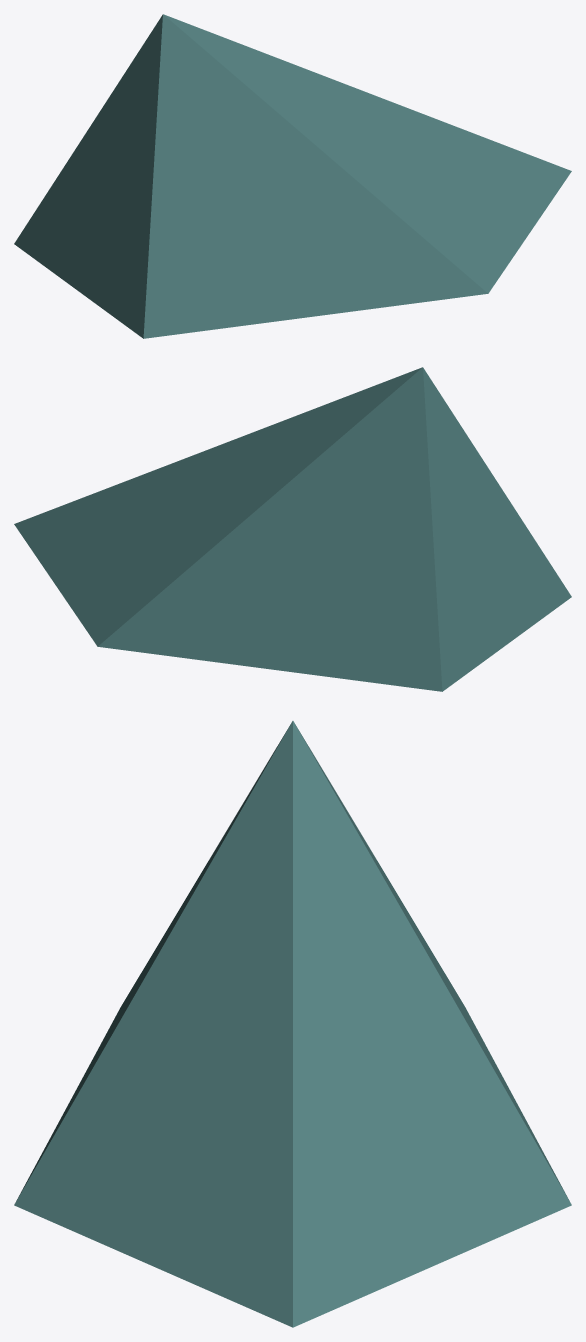
3 views of the same model, one above another, from view 1: azimuth 30°, elevation 25°; view 2: azimuth 150°, elevation 25°; view 3: azimuth 270°, elevation 25° (orthographic). The views are drawn at different scales.
Parts seen in each view (by area): view 1: 原森林散石_5.001; view 2: 原森林散石_5.001; view 3: 原森林散石_5.001.
Part boxes in pixels (x1,y1,x2,y2): 原森林散石_5.001: (14, 14, 571, 338); 原森林散石_5.001: (14, 367, 571, 691); 原森林散石_5.001: (14, 721, 571, 1327).
Bounding box in the file's own units: 0.0724 × 0.036 × 0.0533.
